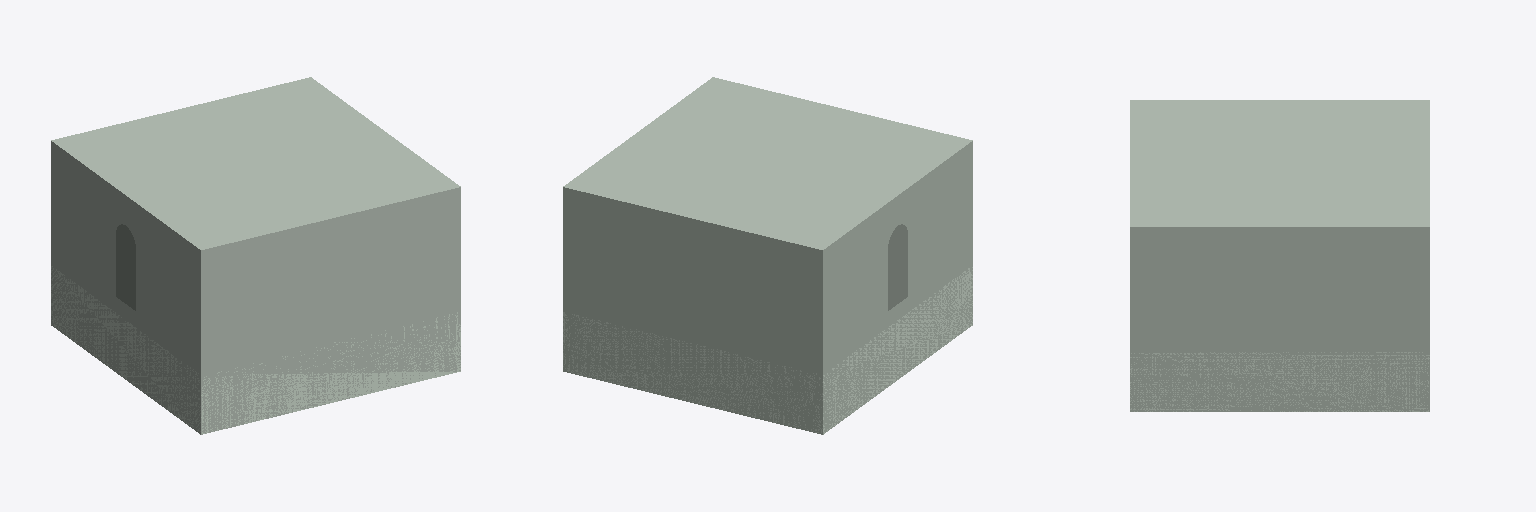
The model's file is tile_008.obj.
The picture shows the model from 3 angles: view 1: azimuth 30°, elevation 25°; view 2: azimuth 150°, elevation 25°; view 3: azimuth 270°, elevation 25°; orthographic projection.
Parts seen in each view (by area): view 1: tile_008; view 2: tile_008; view 3: tile_008.
Part boxes in pixels (x1,y1,x2,y2): tile_008: (51, 77, 460, 434); tile_008: (563, 77, 972, 434); tile_008: (1130, 100, 1429, 411).
Bounding box in the file's own units: 0.5901 × 0.4 × 0.5901.